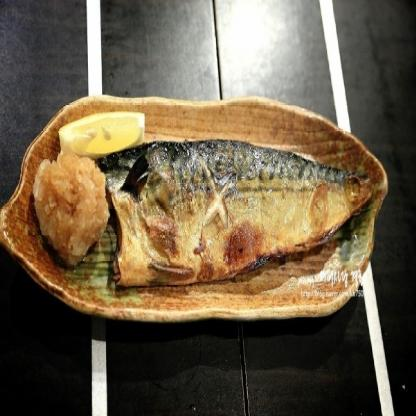Peixe: (100, 127, 387, 308)
